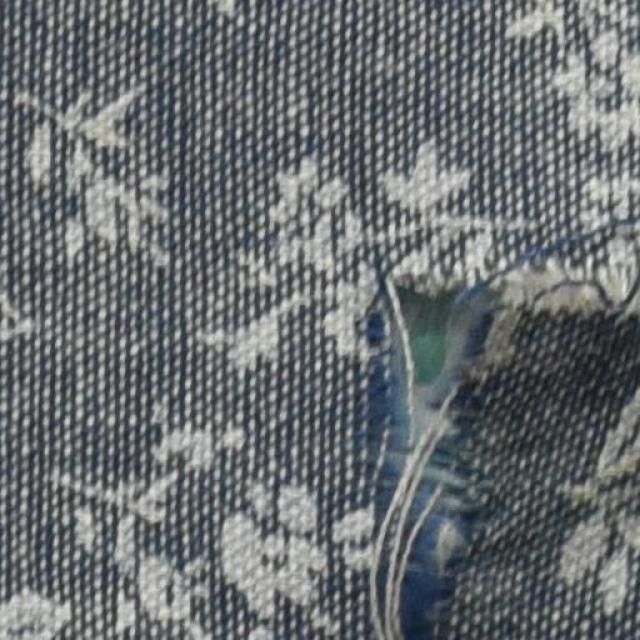Hole: (387, 291, 471, 453)
Snag: (347, 260, 639, 639)
